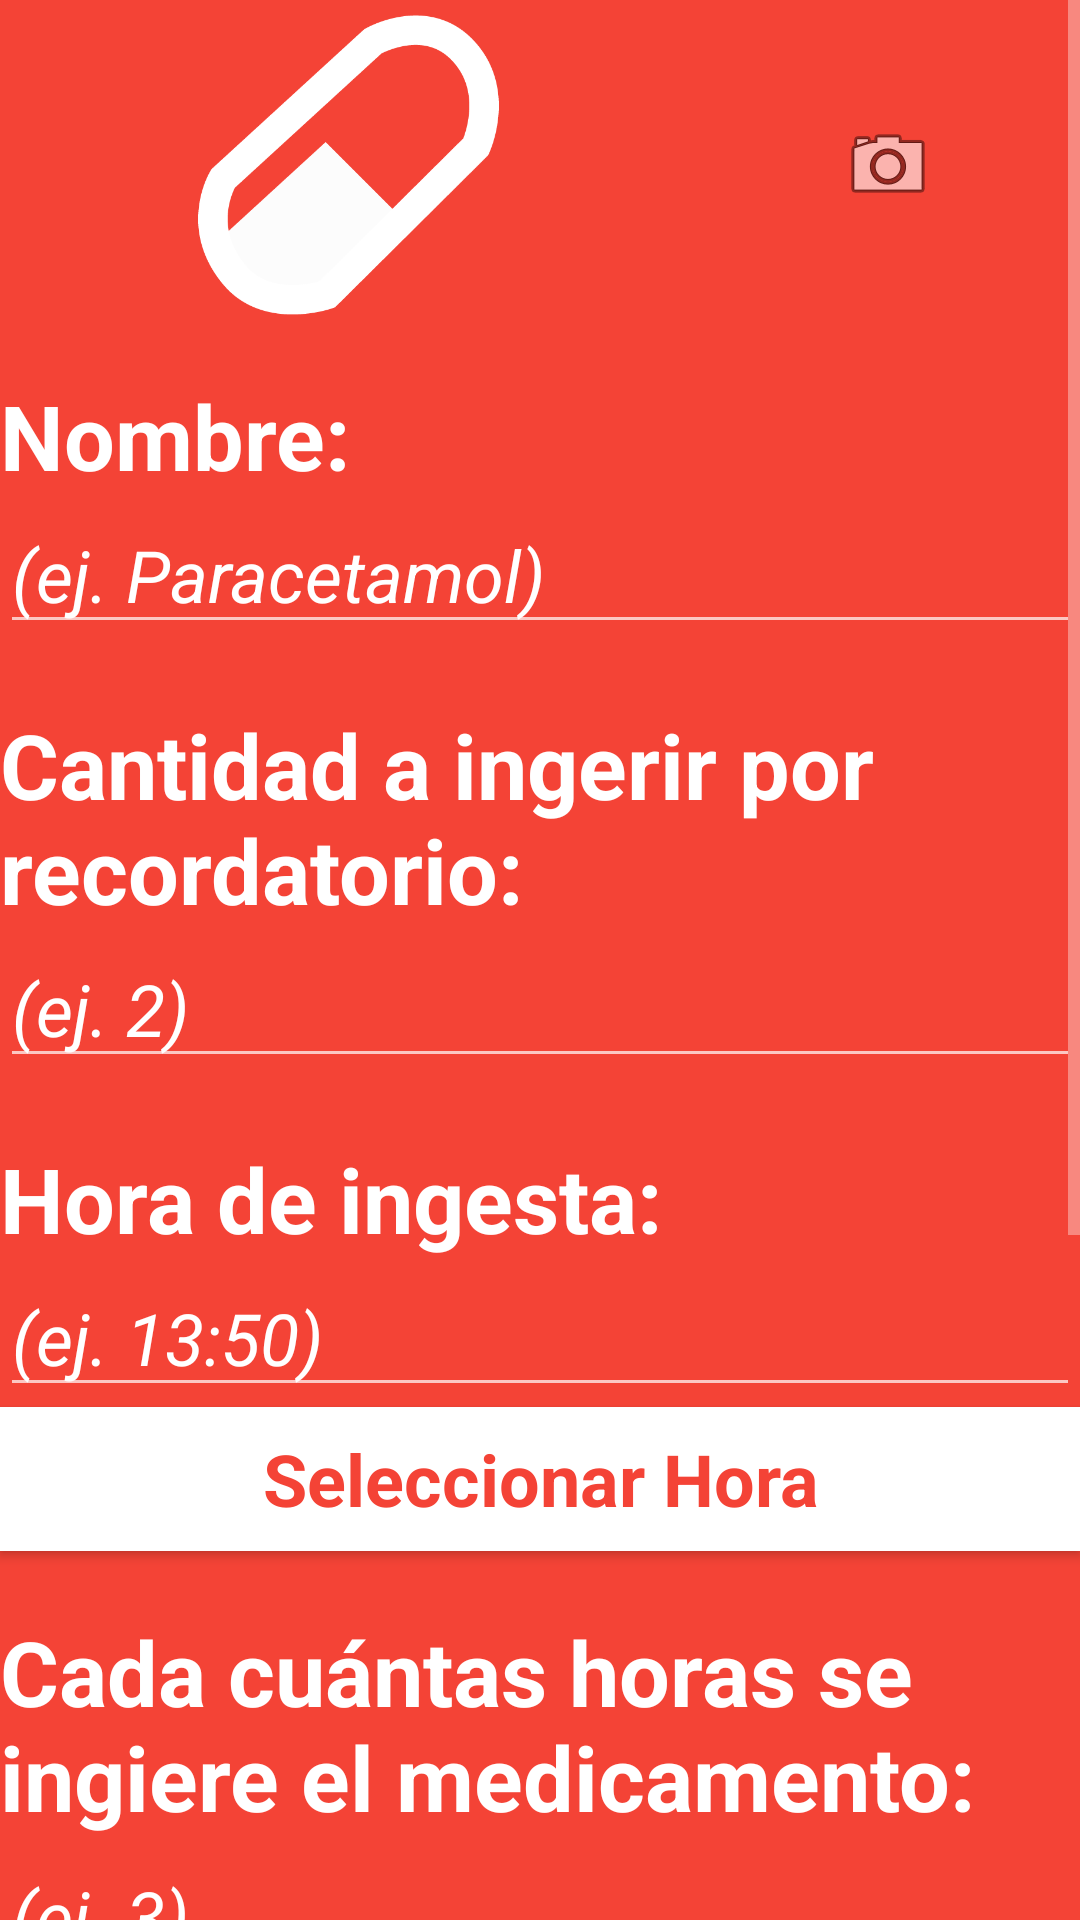

Named icons in this screenshot (1080x1920) and their bounding boxes, bbox(x1, y1, x2, y2):
camera: bbox(851, 134, 925, 193)
med: bbox(198, 15, 499, 315)
